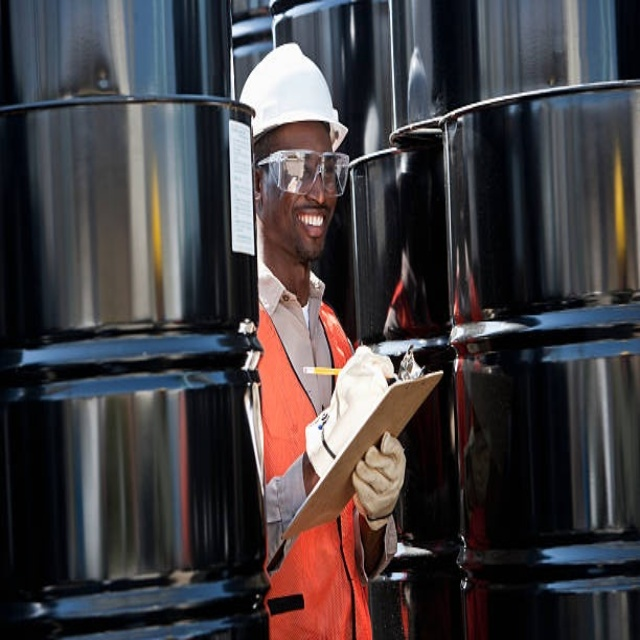Gafas: (258, 149, 351, 197)
Guantes: (303, 337, 394, 485), (351, 430, 406, 529)
Sin_mascara: (290, 202, 327, 249)
